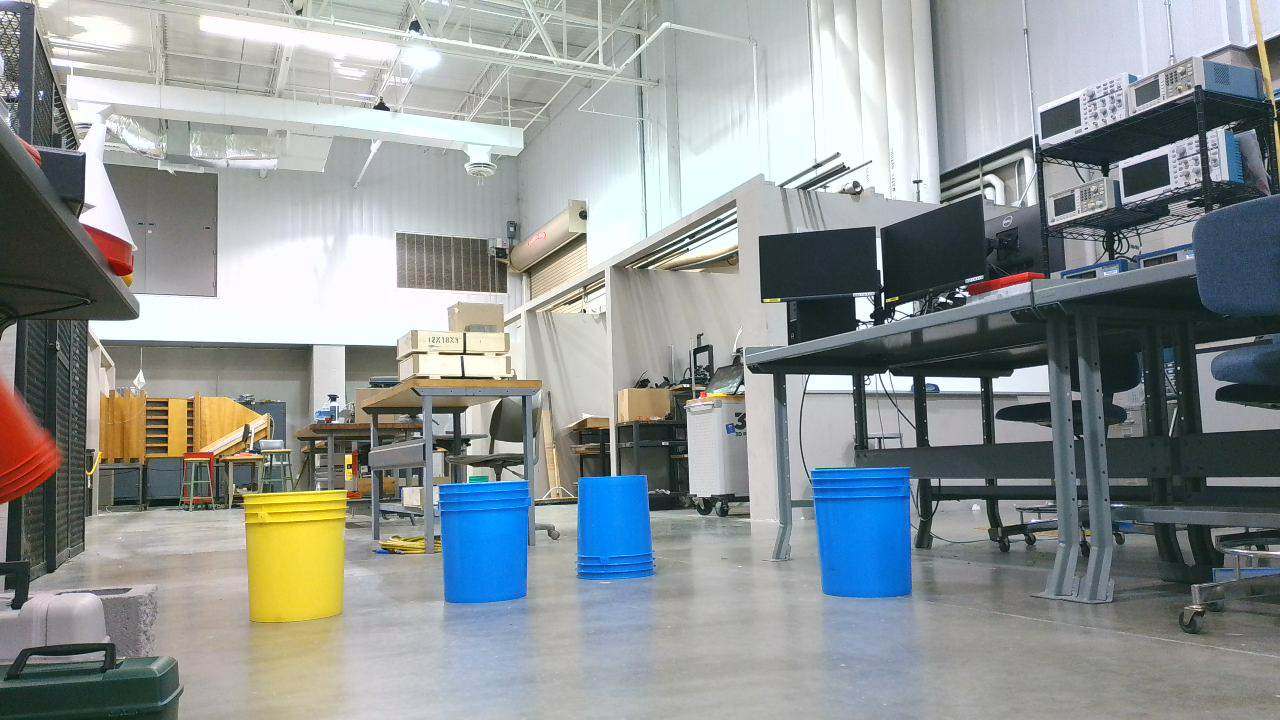blue_bucket: (812, 464, 927, 611), (436, 480, 537, 614), (577, 473, 664, 592)
yellow_bucket: (245, 491, 358, 631)
